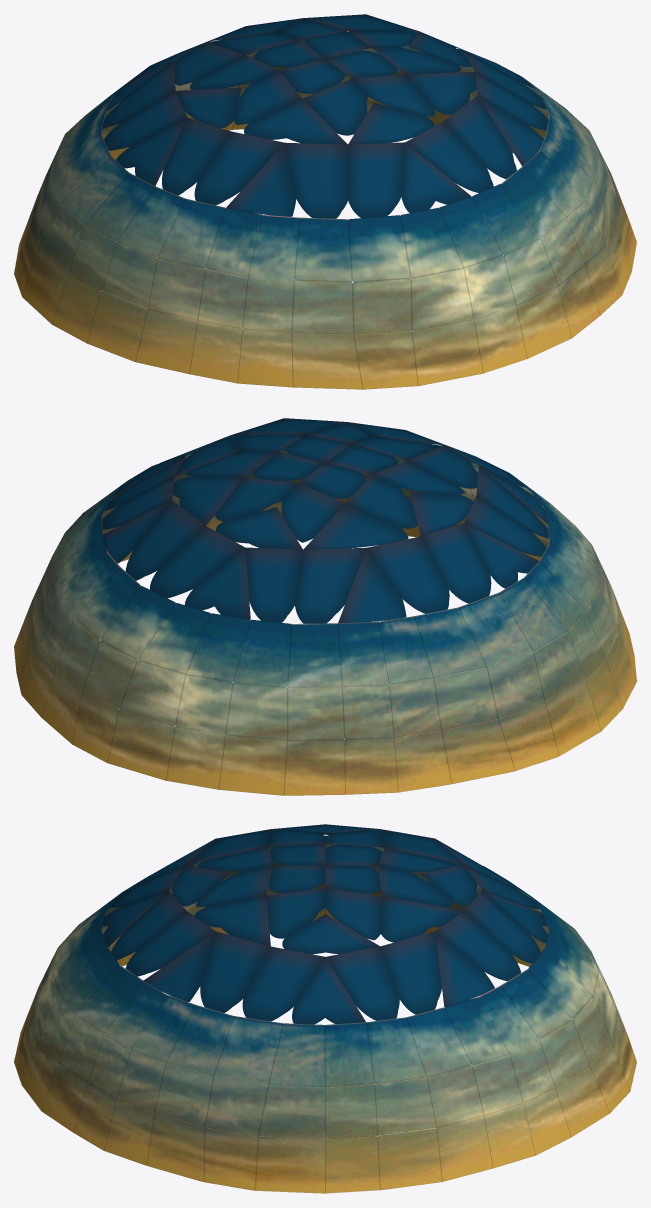
3 views of the same model, one above another, from view 1: azimuth 30°, elevation 25°; view 2: azimuth 150°, elevation 25°; view 3: azimuth 270°, elevation 25° (orthographic). The views are drawn at different scales.
Parts seen in each view (by area): view 1: T1L6M001_19; view 2: T1L6M001_19; view 3: T1L6M001_19.
Boxes of the visible parts, <box> form: T1L6M001_19: <box>14,14,636,389</box>; T1L6M001_19: <box>14,418,636,795</box>; T1L6M001_19: <box>14,824,636,1193</box>.
Bounding box in the file's own units: 4.09 × 1.42 × 4.09.
